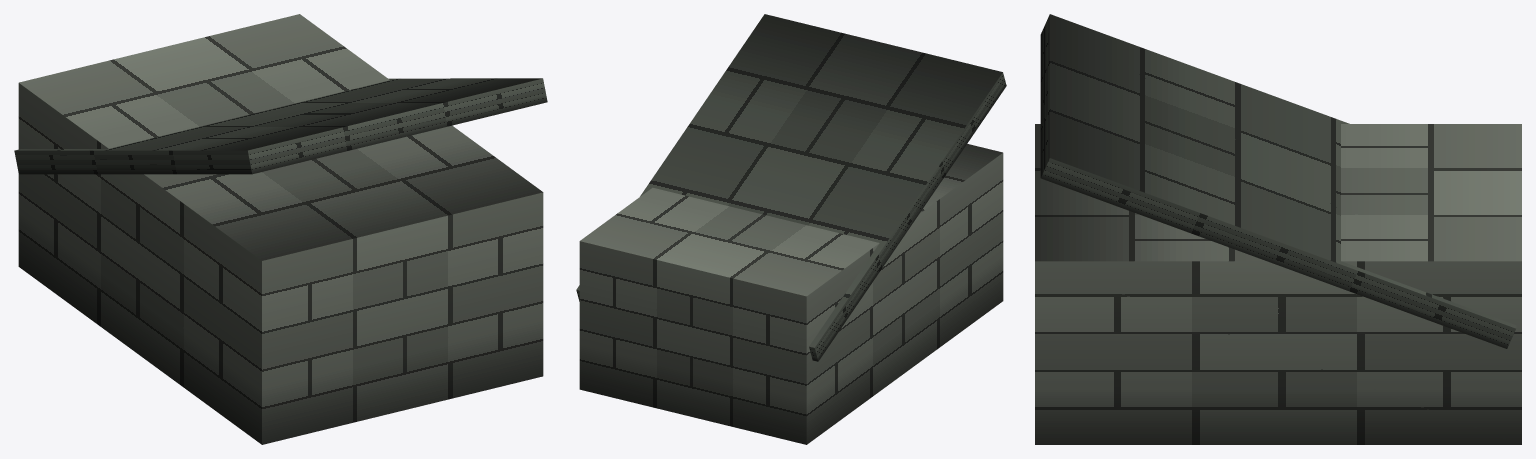
Rendered from ramp.gltf.
The picture shows the model from 3 angles, left to right: view 1: azimuth 30°, elevation 25°; view 2: azimuth 150°, elevation 25°; view 3: azimuth 270°, elevation 25°; orthographic projection. The views are drawn at different scales.
Parts seen in each view (by area): view 1: ramp; view 2: ramp; view 3: ramp.
Part boxes in pixels (<box>): ramp: <box>14,14,547,444</box>; ramp: <box>576,14,1006,444</box>; ramp: <box>1035,14,1521,444</box>.
Bounding box in the file's own units: 0.84 × 0.7901 × 1.2.
1 material, 1 textured.
